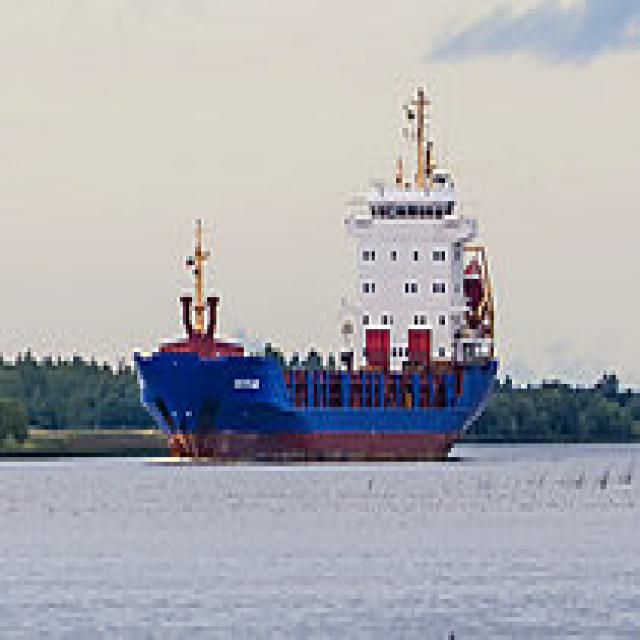Cargo: (128, 78, 500, 462)
